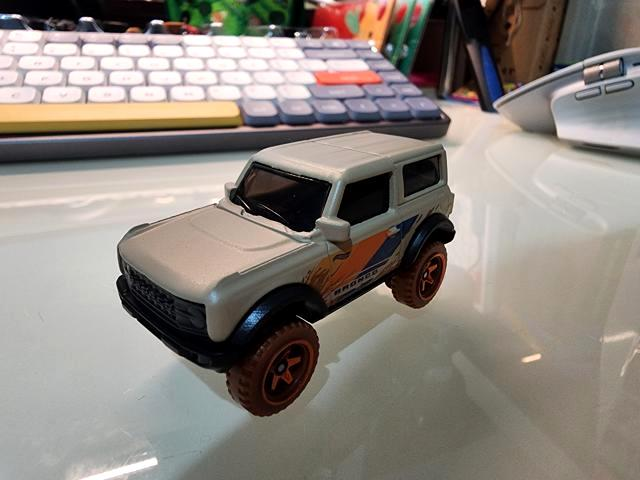toy-car: (116, 129, 456, 418)
